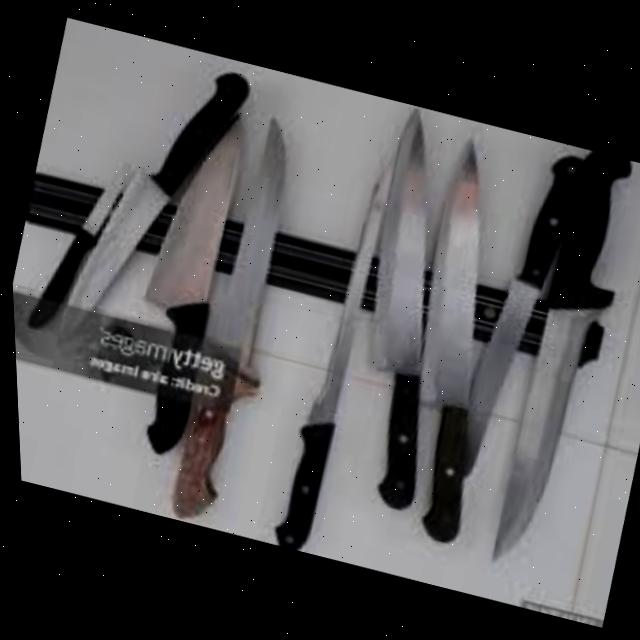knife: (15, 33, 264, 367), (310, 102, 504, 510), (364, 133, 549, 543), (149, 108, 325, 529), (471, 145, 640, 574), (254, 151, 409, 557), (438, 140, 598, 492), (124, 131, 256, 457), (18, 145, 149, 345)
